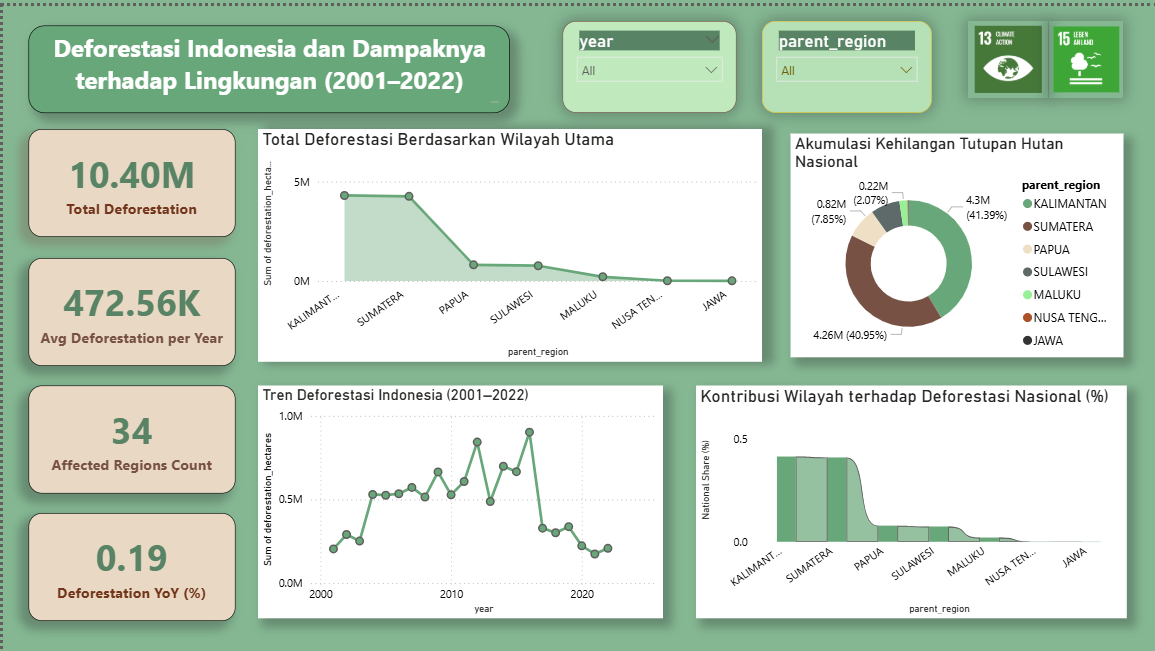

The dashboard page shown, as its layout file describes it:
{"tool":"powerbi","page":{"name":"Page 1","canvas":[1280,720],"ordinal":0},"visuals":[{"type":"card","fields":{"Values":["deforestation_province.Total Deforestation"]},"box":[28.3,136.7,230,120],"z":0},{"type":"textbox","title":"Deforestasi Indonesia dan Dampaknya terhadap Lingkungan (2001–2022)","box":[29.1,21,534.3,97.2],"z":1000},{"type":"slicer","fields":{"Values":["deforestation_province.parent_region"]},"box":[843.3,16.7,188.3,101.7],"z":2000},{"type":"areaChart","title":"Total Deforestasi Berdasarkan Wilayah Utama","fields":{"Category":["deforestation_province.parent_region"],"Y":["Sum(deforestation_province.deforestation_hectares)"]},"box":[283.3,136.7,560,258.3],"z":3000},{"type":"lineChart","title":"Tren Deforestasi Indonesia (2001–2022)","fields":{"Category":["deforestation_province.year"],"Y":["Sum(deforestation_province.deforestation_hectares)"]},"box":[283.3,421.7,450,258.3],"z":4000},{"type":"slicer","fields":{"Values":["deforestation_province.year"]},"box":[621.7,16.7,193.3,101.7],"z":5000},{"type":"card","title":"Rata-rata Deforestasi per Tahun","fields":{"Values":["deforestation_province.Avg Deforestation per Year"]},"box":[28.3,280,230,120],"z":6000},{"type":"card","fields":{"Values":["deforestation_province.Deforestation YoY (%)"]},"box":[28.3,563.3,230,120],"z":7000},{"type":"card","fields":{"Values":["deforestation_province.Affected Regions Count"]},"box":[28.3,421.7,230,120],"z":8000},{"type":"donutChart","title":"Akumulasi Kehilangan Tutupan Hutan Nasional","fields":{"Y":["deforestation_province.Cumulative Deforestation"],"Category":["deforestation_province.parent_region"]},"box":[875,141.7,370,248.3],"z":9000},{"type":"ribbonChart","title":"Kontribusi Wilayah terhadap Deforestasi Nasional (%)","fields":{"Category":["deforestation_province.parent_region"],"Y":["deforestation_province.National Share (%)"]},"box":[770,421.7,478.3,258.3],"z":10000},{"type":"image","box":[1071.7,16.7,90,85],"z":11000},{"type":"image","box":[1161.7,16.7,83.3,85],"z":12000}]}

Visuals, with their boxes in screenshot pixels (x1, y1, x2, y2), scaled from the page's 1280x720 canvas onto the 1155x651 screenshot:
card - deforestation_province.Total Deforestation: rect(26, 124, 233, 232)
"Deforestasi Indonesia dan Dampaknya terhadap Lingkungan (2001–2022)" textbox: rect(26, 19, 508, 107)
slicer - deforestation_province.parent_region: rect(761, 15, 931, 107)
"Total Deforestasi Berdasarkan Wilayah Utama" areaChart: rect(256, 124, 761, 357)
"Tren Deforestasi Indonesia (2001–2022)" lineChart: rect(256, 381, 662, 615)
slicer - deforestation_province.year: rect(561, 15, 735, 107)
"Rata-rata Deforestasi per Tahun" card: rect(26, 253, 233, 362)
card - deforestation_province.Deforestation YoY (%): rect(26, 509, 233, 618)
card - deforestation_province.Affected Regions Count: rect(26, 381, 233, 490)
"Akumulasi Kehilangan Tutupan Hutan Nasional" donutChart: rect(790, 128, 1123, 353)
"Kontribusi Wilayah terhadap Deforestasi Nasional (%)" ribbonChart: rect(695, 381, 1126, 615)
image: rect(967, 15, 1048, 92)
image: rect(1048, 15, 1123, 92)
